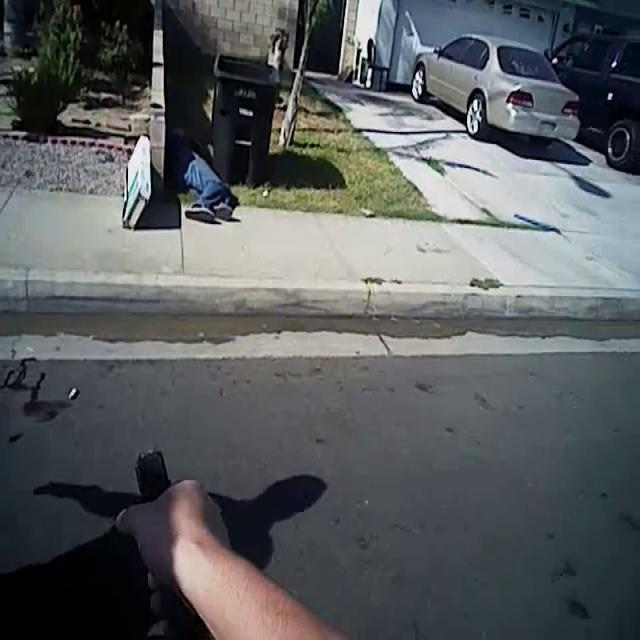gun: (110, 426, 210, 640)
